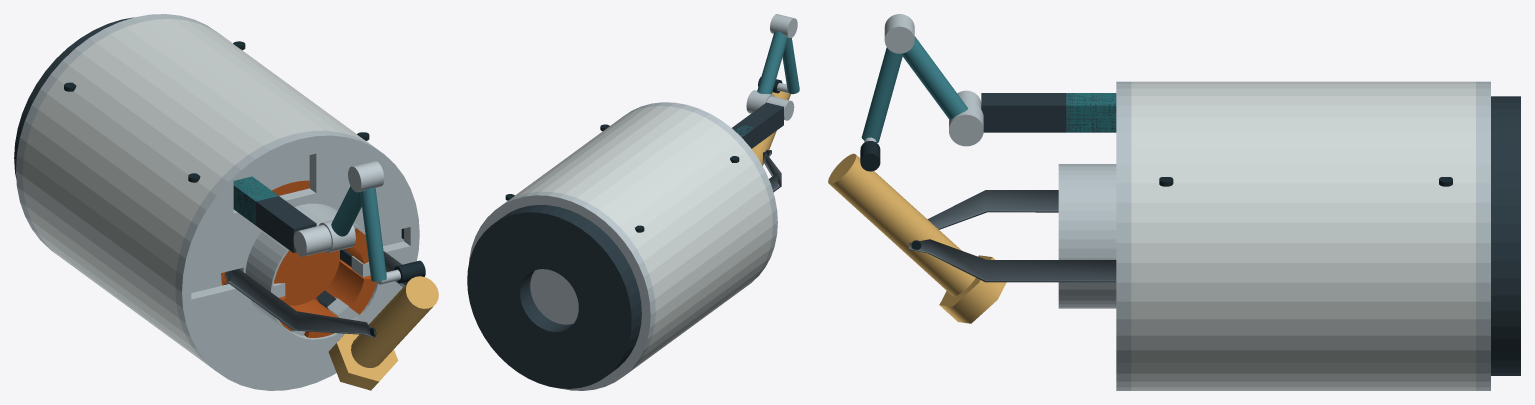
File: m8-r10-gripper.glb
The picture shows the model from 3 angles, left to right: view 1: azimuth 30°, elevation 25°; view 2: azimuth 150°, elevation 25°; view 3: azimuth 270°, elevation 25°; orthographic projection. The views are drawn at different scales.
Visible parts, largest first — view 1: cover-sleeve, front-plate-with-ports, held-bolt, slim-nose-tube, tweezer-blade, thumb-column, rear-bulkhead, chuck-back-disc, feed-yoke, thumb-distal, chuck-web-5, thumb-drive-envelope (+10 smaller); view 2: cover-sleeve, robot-adapter-ring, rear-bulkhead, front-plate-with-ports, thumb-column, thumb-proximal, thumb-distal, thumb-joint-2, held-bolt, tweezer-blade, thumb-joint-1, thumb-base-axle; view 3: cover-sleeve, robot-adapter-ring, held-bolt, slim-nose-tube, tweezer-blade (×2), front-plate-with-ports, rear-bulkhead, thumb-column, thumb-drive-envelope, thumb-proximal, thumb-distal, thumb-joint-2 (+2 smaller).
Part boxes in pixels (x1,y1,x2,y2): cover-sleeve: (22, 19, 374, 365); front-plate-with-ports: (175, 130, 419, 390); held-bolt: (328, 276, 438, 390); slim-nose-tube: (245, 203, 379, 341); tweezer-blade: (226, 269, 375, 337); thumb-column: (233, 176, 316, 252); rear-bulkhead: (16, 14, 221, 253); chuck-back-disc: (284, 250, 342, 305); feed-yoke: (191, 155, 403, 292); thumb-distal: (360, 187, 386, 281); chuck-web-5: (326, 261, 376, 314); thumb-drive-envelope: (233, 176, 278, 224); cover-sleeve: (504, 106, 772, 371); robot-adapter-ring: (467, 205, 641, 388); rear-bulkhead: (469, 191, 655, 390); front-plate-with-ports: (620, 102, 777, 285); thumb-column: (732, 102, 783, 148); thumb-proximal: (757, 31, 787, 94); thumb-distal: (782, 37, 799, 93); thumb-joint-2: (770, 14, 797, 37); held-bolt: (752, 91, 790, 165); tweezer-blade: (763, 150, 781, 192); thumb-joint-1: (746, 90, 774, 113); thumb-base-axle: (766, 96, 794, 120); cover-sleeve: (1131, 81, 1475, 390); robot-adapter-ring: (1491, 96, 1520, 375); held-bolt: (828, 153, 1006, 323); slim-nose-tube: (1058, 164, 1116, 308); tweezer-blade (×2): (909, 190, 1116, 282); front-plate-with-ports: (1116, 81, 1131, 390); rear-bulkhead: (1476, 81, 1490, 390); thumb-column: (981, 93, 1116, 132); thumb-drive-envelope: (1066, 93, 1116, 132); thumb-proximal: (901, 36, 967, 120); thumb-distal: (861, 47, 902, 142); thumb-joint-2: (884, 14, 914, 53).
Size of the model in its own units: 0.062 by 0.0749 by 0.1387.
